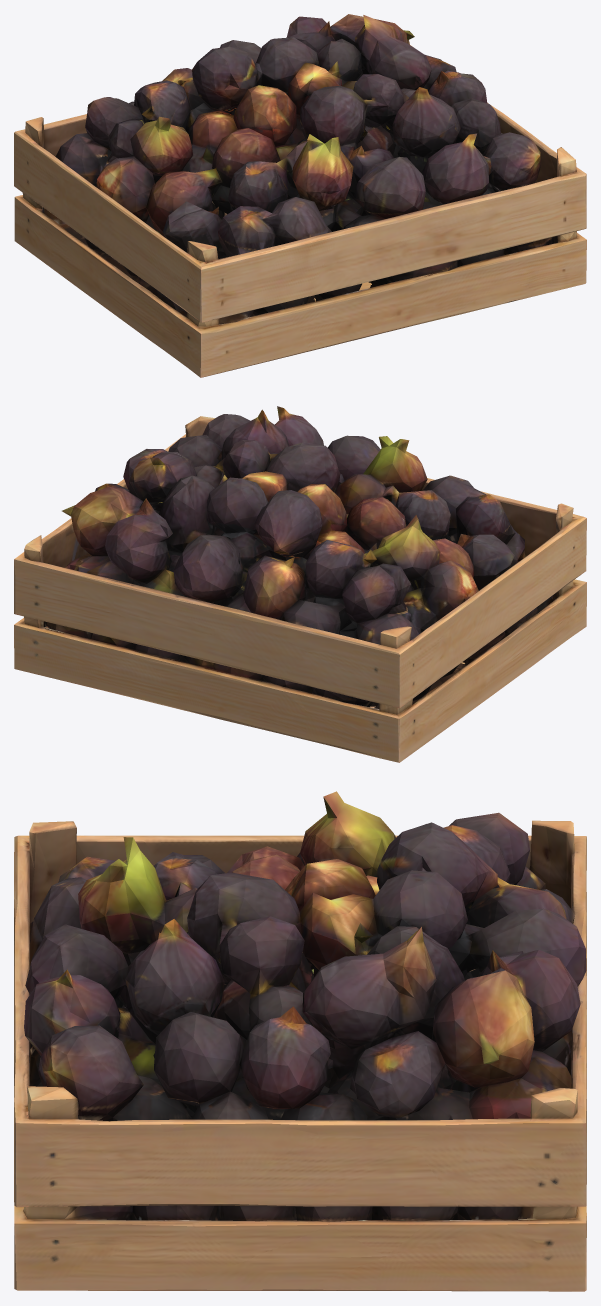
The model's file is Generate_a_medium_p_0505194810_texture.fbx.
3 views of the same model, one above another, from view 1: azimuth 30°, elevation 25°; view 2: azimuth 150°, elevation 25°; view 3: azimuth 270°, elevation 25° (orthographic). The views are drawn at different scales.
Parts seen in each view (by area): view 1: temp; view 2: temp; view 3: temp.
Part boxes in pixels (x1,y1,x2,y2): temp: (14,14,586,377); temp: (14,406,586,762); temp: (14,791,586,1291).
Size of the model in its own units: 200 by 96.52 by 168.
1 material, 1 textured.
